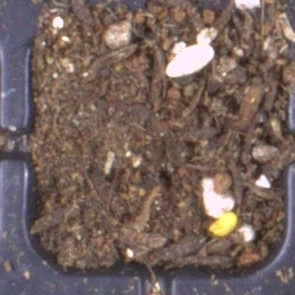chilli seed: (207, 211, 238, 237)
